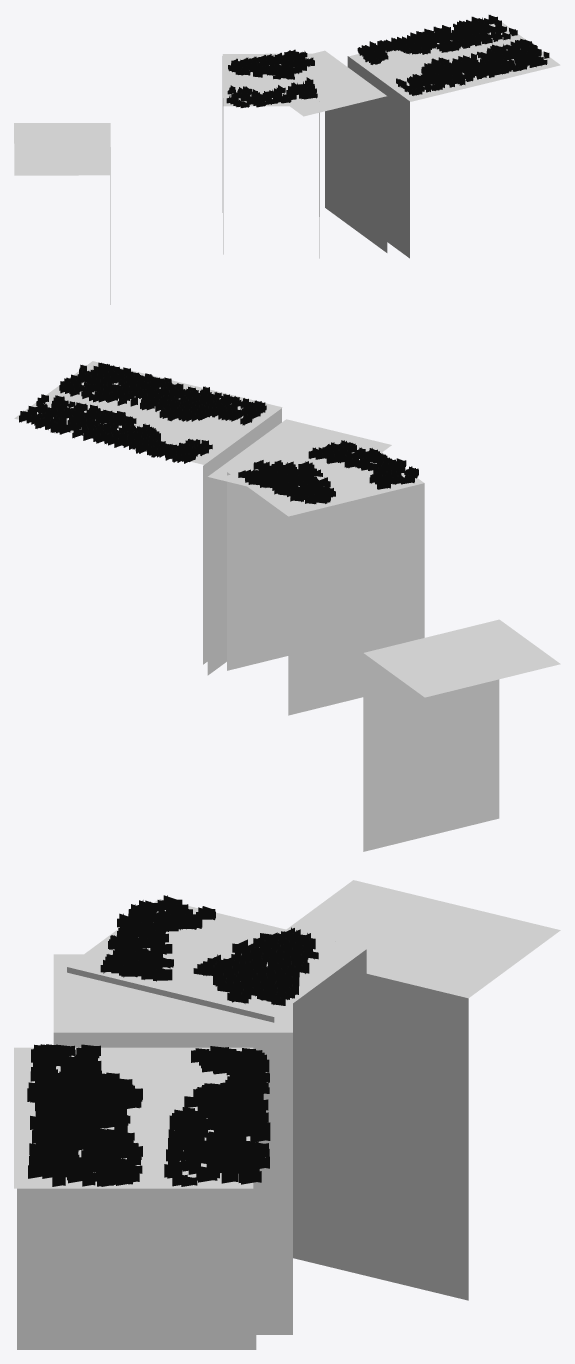
File: level_outdoors.fbx
The picture shows the model from 3 angles, top to bottom: view 1: azimuth 30°, elevation 25°; view 2: azimuth 150°, elevation 25°; view 3: azimuth 270°, elevation 25°; orthographic projection. The views are drawn at different scales.
Visible parts, largest first — view 1: Plane.004, Plane.008, Plane.001, Plane.002, Plane.003, Plane.005; view 2: Plane.007, Plane.009, Plane.006, Plane.008, Plane.002, Plane.004, Plane.005, Plane.003, Plane.001; view 3: Plane.001, Plane.009, Plane.007, Plane.008, Plane.004, Plane.002, Plane.003, Plane.005, Plane.006.
Part boxes in pixels (box(x1,y1,x2,y2)): Plane.004: box(325, 96, 387, 252); Plane.008: box(14, 123, 110, 175); Plane.001: box(347, 56, 409, 258); Plane.002: box(349, 19, 560, 101); Plane.003: box(290, 50, 386, 116); Plane.005: box(222, 53, 319, 106); Plane.007: box(288, 483, 424, 715); Plane.009: box(363, 653, 499, 851); Plane.006: box(227, 472, 288, 670); Plane.008: box(364, 619, 560, 697); Plane.002: box(14, 361, 282, 464); Plane.004: box(207, 477, 226, 675); Plane.005: box(227, 438, 423, 516); Plane.003: box(208, 419, 391, 486); Plane.001: box(203, 408, 281, 664); Plane.001: box(17, 1047, 256, 1349); Plane.009: box(293, 974, 468, 1300); Plane.007: box(293, 949, 366, 1251); Plane.008: box(286, 880, 560, 998); Plane.004: box(53, 1032, 292, 1334); Plane.002: box(14, 1047, 253, 1188); Plane.003: box(53, 954, 292, 1032); Plane.005: box(67, 899, 366, 1016); Plane.006: box(67, 967, 274, 1022).
Size of the model in its own units: 16487 by 7925 by 8865.
